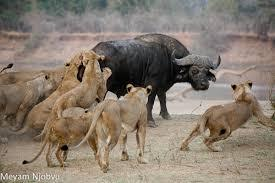Buffalo: (128, 24, 235, 90)
lions: (27, 86, 272, 163), (21, 61, 88, 140)
